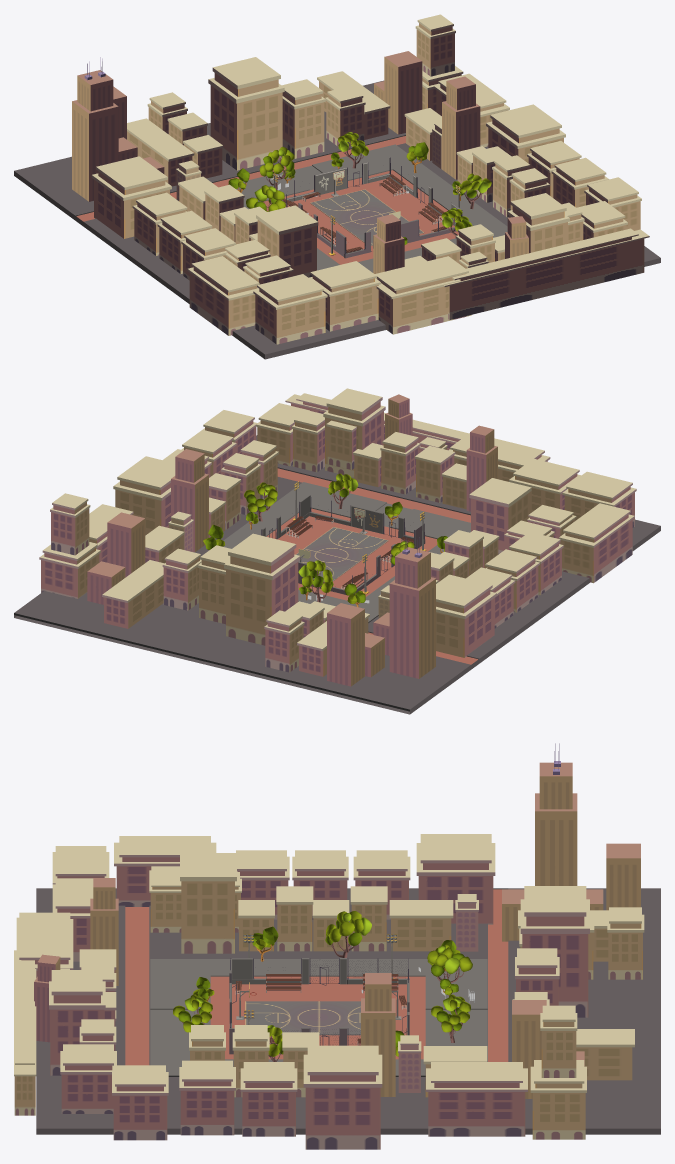
The model's file is Basketball.FBX.
3 renders of one model, top to bottom at view 1: azimuth 30°, elevation 25°; view 2: azimuth 150°, elevation 25°; view 3: azimuth 270°, elevation 25°, orthographic. The views are drawn at different scales.
Parts seen in each view (by area): view 1: Basketball; view 2: Basketball; view 3: Basketball.
Boxes of the visible parts, x1,y1,x2,y2 form: Basketball: (14,14,660,359); Basketball: (14,388,660,714); Basketball: (14,743,660,1149).
Size of the model in its own units: 6077 by 2023 by 6616.
